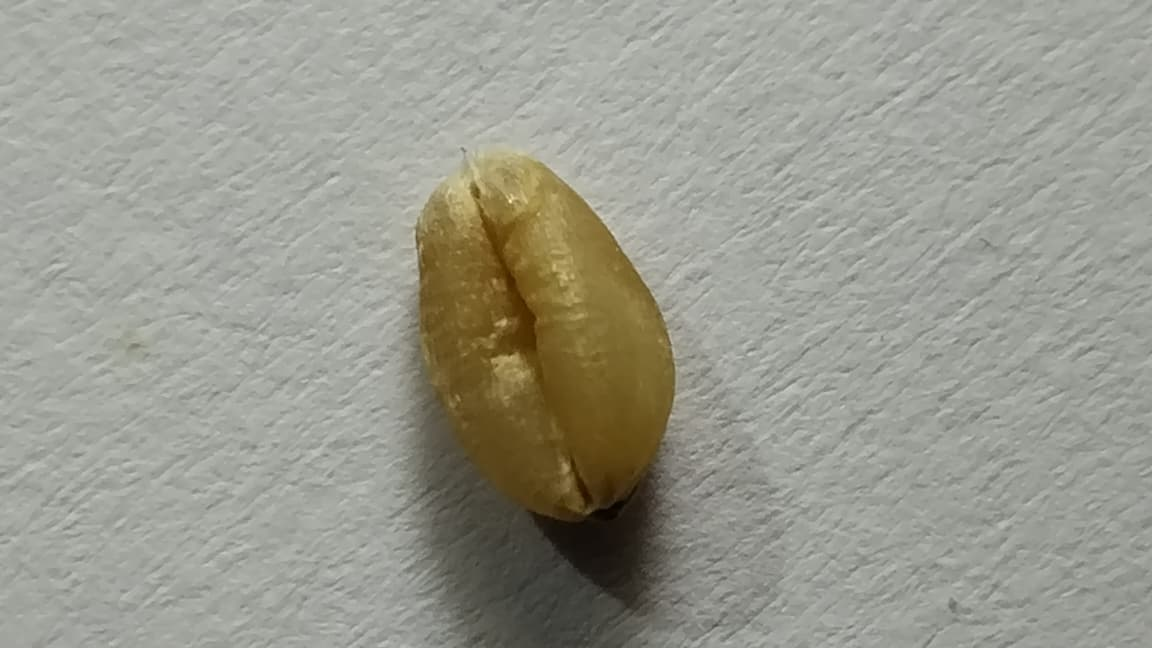healthy: (416, 148, 675, 520)
